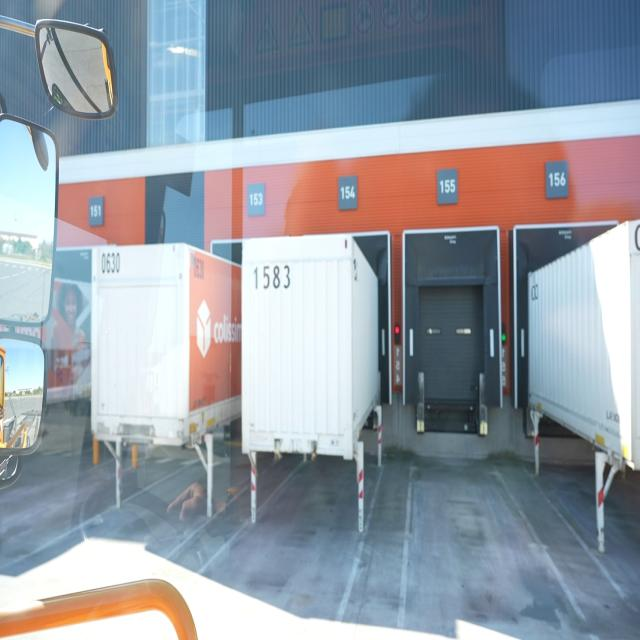Code: (248, 259, 294, 295), (100, 248, 123, 284)
